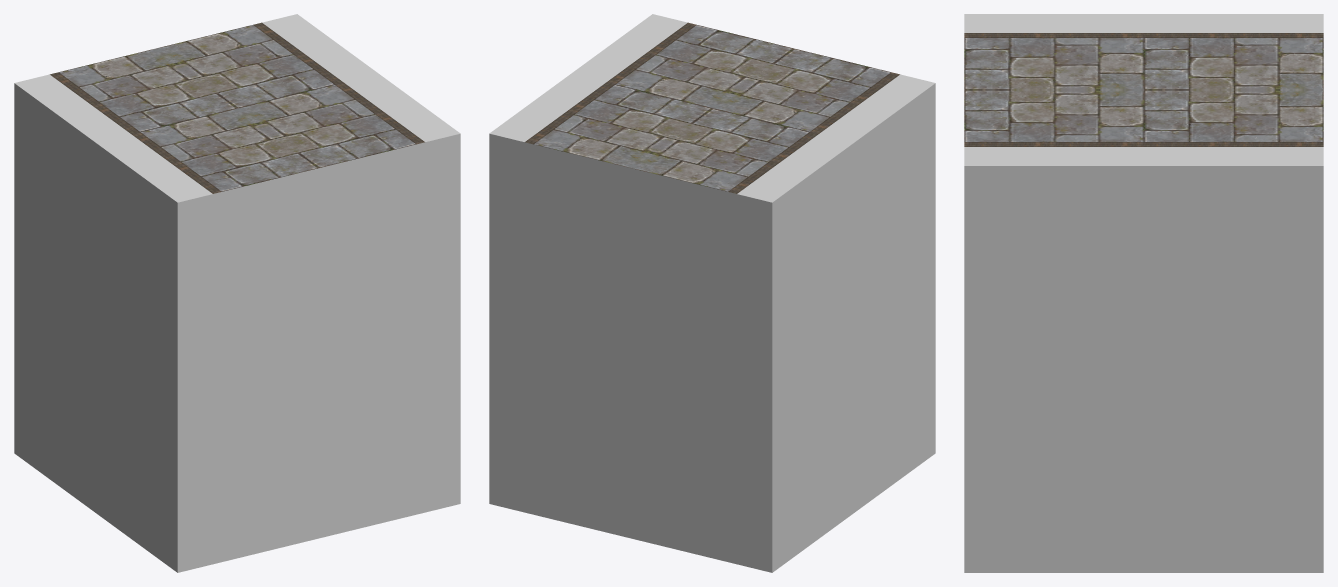
3 renders of one model, left to right at view 1: azimuth 30°, elevation 25°; view 2: azimuth 150°, elevation 25°; view 3: azimuth 270°, elevation 25°, orthographic. The views are drawn at different scales.
Visible parts, largest first — view 1: SM_Dowdun_Walkway_8x8x10_02_LOD0; view 2: SM_Dowdun_Walkway_8x8x10_02_LOD0; view 3: SM_Dowdun_Walkway_8x8x10_02_LOD0.
Boxes of the visible parts, x1,y1,x2,y2 form: SM_Dowdun_Walkway_8x8x10_02_LOD0: [14, 14, 460, 572]; SM_Dowdun_Walkway_8x8x10_02_LOD0: [489, 14, 935, 572]; SM_Dowdun_Walkway_8x8x10_02_LOD0: [964, 14, 1323, 572].
Bounding box in the file's own units: 8 × 10 × 8.
Materials: 3 (2 with a texture image).
